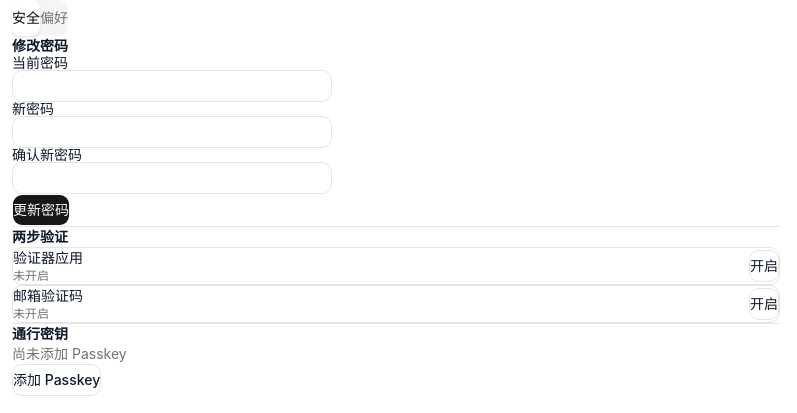
Test: 设置页 › 偏好设置无改动时保存按钮禁用
The image size is (797, 413).
Click the tab "偏好" at (54, 18), box left=40, top=9, right=68, bottom=26
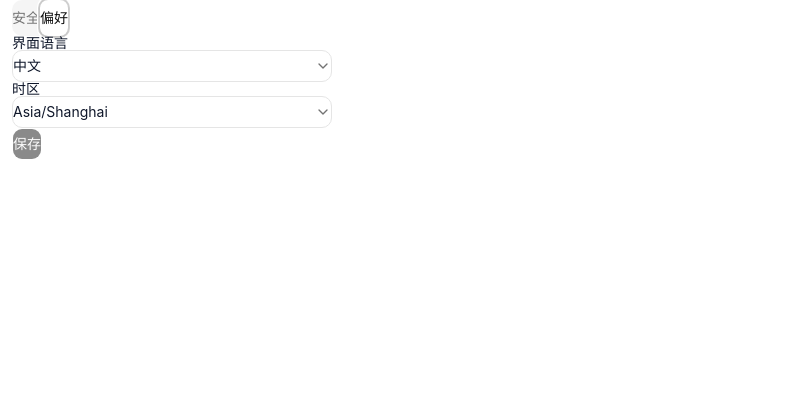
Now the button "保存" is disabled, box left=12, top=128, right=42, bottom=160
